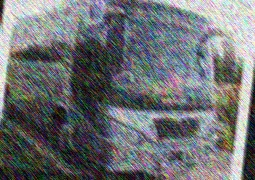bus: (0, 0, 242, 180)
